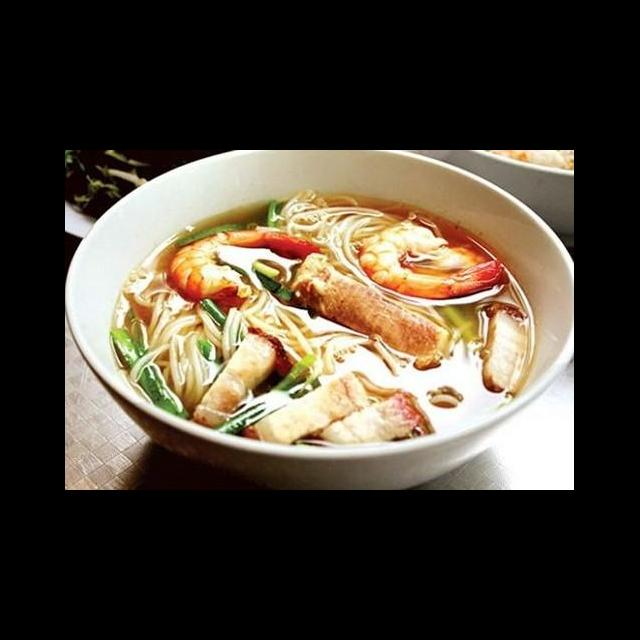bun: (142, 283, 246, 408)
ca: (282, 248, 458, 364)
thit heo quay: (188, 322, 292, 430), (242, 366, 374, 450), (310, 386, 436, 464), (480, 297, 534, 398)
tom: (356, 212, 512, 302), (164, 223, 324, 302)
